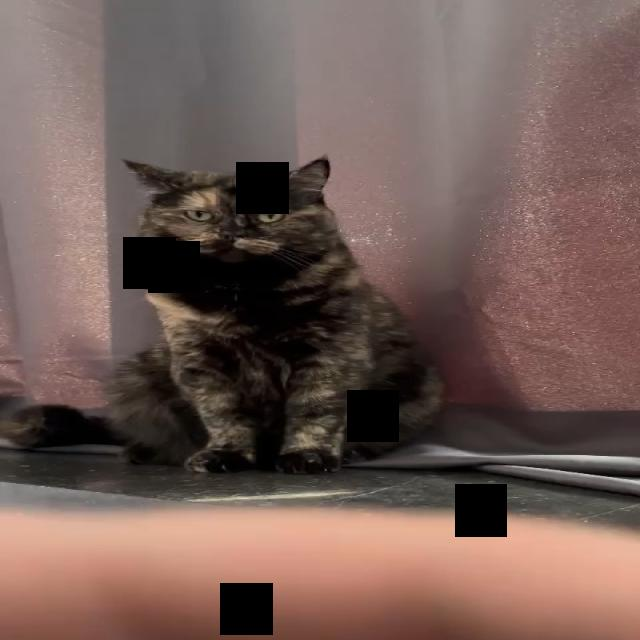authorized: (104, 153, 445, 475)
